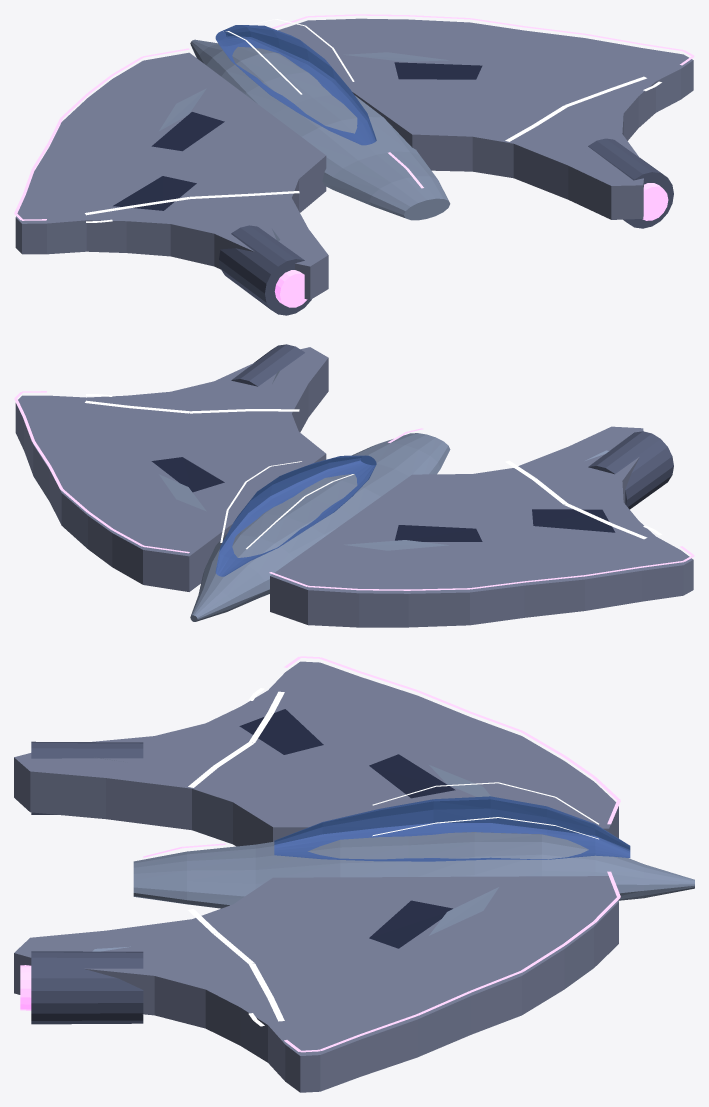
Rendered from stingray-evo-hero-v1.gltf.
The picture shows the model from 3 angles, top to bottom: view 1: azimuth 30°, elevation 25°; view 2: azimuth 150°, elevation 25°; view 3: azimuth 270°, elevation 25°; orthographic projection. The views are drawn at different scales.
Parts seen in each view (by area): view 1: Hero_Wing_R, Hero_Wing_L, Hero_Hull_Spine, Hero_Canopy, Hero_Engine_L, Hero_Engine_R, Hero_Detail_Vent_B_L, Hero_Detail_Vent_A_L, Hero_Detail_Vent_A_R, Hero_Detail_Engine_Core_L, Hero_Edge_R, Hero_Edge_L (+5 smaller); view 2: Hero_Wing_L, Hero_Wing_R, Hero_Hull_Spine, Hero_Canopy, Hero_Engine_L, Hero_Detail_Vent_B_L, Hero_Engine_R, Hero_Detail_Vent_A_L, Hero_Detail_Vent_A_R, Hero_Edge_L, Hero_Edge_R, Hero_Detail_Wing_Riser_L (+3 smaller); view 3: Hero_Wing_R, Hero_Wing_L, Hero_Hull_Spine, Hero_Canopy, Hero_Engine_R, Hero_Engine_L, Hero_Detail_Vent_A_R, Hero_Detail_Vent_B_L, Hero_Detail_Vent_A_L, Hero_Edge_R, Hero_Edge_L, Hero_Detail_Wing_Riser_R (+2 smaller).
Part boxes in pixels (x1,y1,x2,y2): Hero_Wing_R: (278, 18, 693, 219); Hero_Wing_L: (15, 52, 328, 299); Hero_Hull_Spine: (190, 39, 450, 220); Hero_Canopy: (215, 25, 376, 145); Hero_Engine_L: (219, 225, 311, 315); Hero_Engine_R: (588, 138, 673, 228); Hero_Detail_Vent_B_L: (113, 176, 196, 210); Hero_Detail_Vent_A_L: (151, 112, 224, 151); Hero_Detail_Vent_A_R: (394, 62, 482, 79); Hero_Detail_Engine_Core_L: (274, 270, 307, 307); Hero_Edge_R: (271, 14, 694, 65); Hero_Edge_L: (14, 48, 189, 220); Hero_Wing_L: (270, 426, 693, 627); Hero_Wing_R: (15, 347, 328, 591); Hero_Hull_Spine: (190, 433, 450, 621); Hero_Canopy: (215, 455, 376, 576); Hero_Engine_L: (588, 431, 673, 509); Hero_Detail_Vent_B_L: (532, 509, 615, 532); Hero_Engine_R: (231, 344, 304, 386); Hero_Detail_Vent_A_L: (395, 525, 482, 541); Hero_Detail_Vent_A_R: (151, 457, 224, 492); Hero_Edge_L: (269, 546, 694, 590); Hero_Edge_R: (14, 391, 189, 553); Hero_Detail_Wing_Riser_L: (344, 540, 448, 550); Hero_Wing_R: (14, 876, 618, 1092); Hero_Wing_L: (14, 661, 618, 846); Hero_Hull_Spine: (133, 832, 694, 908); Hero_Canopy: (274, 796, 630, 861); Hero_Engine_R: (31, 951, 143, 1024); Hero_Engine_L: (31, 741, 143, 814); Hero_Detail_Vent_A_R: (369, 900, 452, 948); Hero_Detail_Vent_B_L: (239, 709, 323, 754); Hero_Detail_Vent_A_L: (369, 754, 455, 798); Hero_Edge_R: (284, 871, 620, 1052); Hero_Edge_L: (284, 656, 620, 824); Hero_Detail_Wing_Riser_R: (429, 887, 498, 935).
Size of the model in its own units: 7.53 by 1.03 by 5.47.
